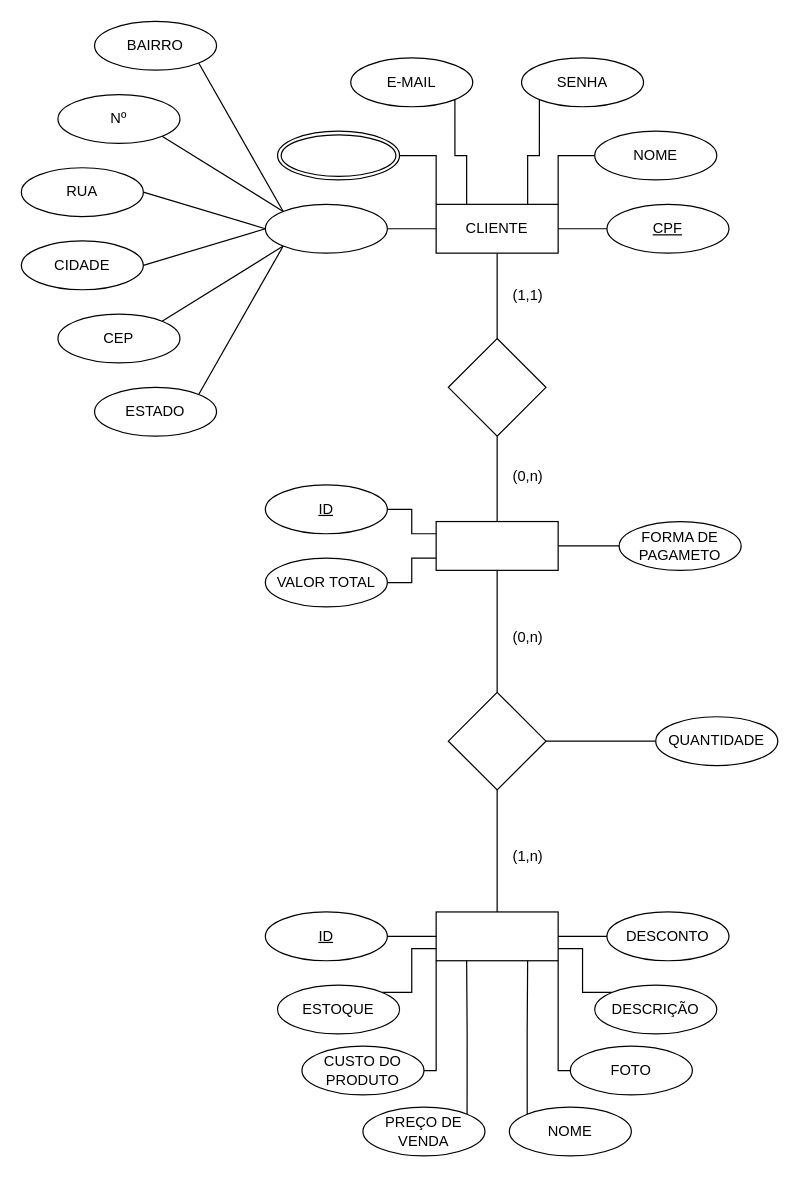
Some shapes in this 799 by 1177 pixel diagram are drawn without their labels. The centre of each missing label's shape, as x and y in pixels:
"COMPRA" belongs at (496,545).
"ENDEREÇO" belongs at (325,228).
"FAZ" belongs at (496,386).
"PRODUTO" belongs at (496,936).
"TELEFONE" belongs at (338,155).
"TEM" belongs at (496,740).
